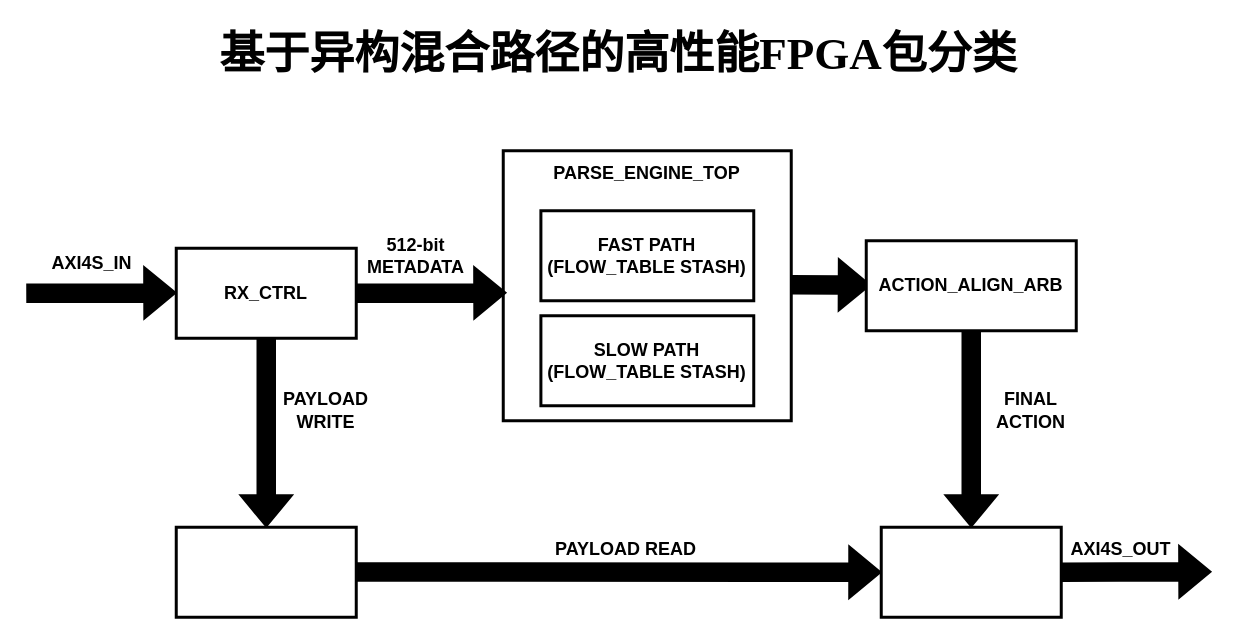
Some shapes in this 1238 by 644 pixel diagram are drawn without their labels. The box of each missing label's shape, as (x1, y1, x2, y2) in pixels:
PACKET BUF: (174, 525, 357, 618)
TX CTRL: (879, 525, 1062, 618)
